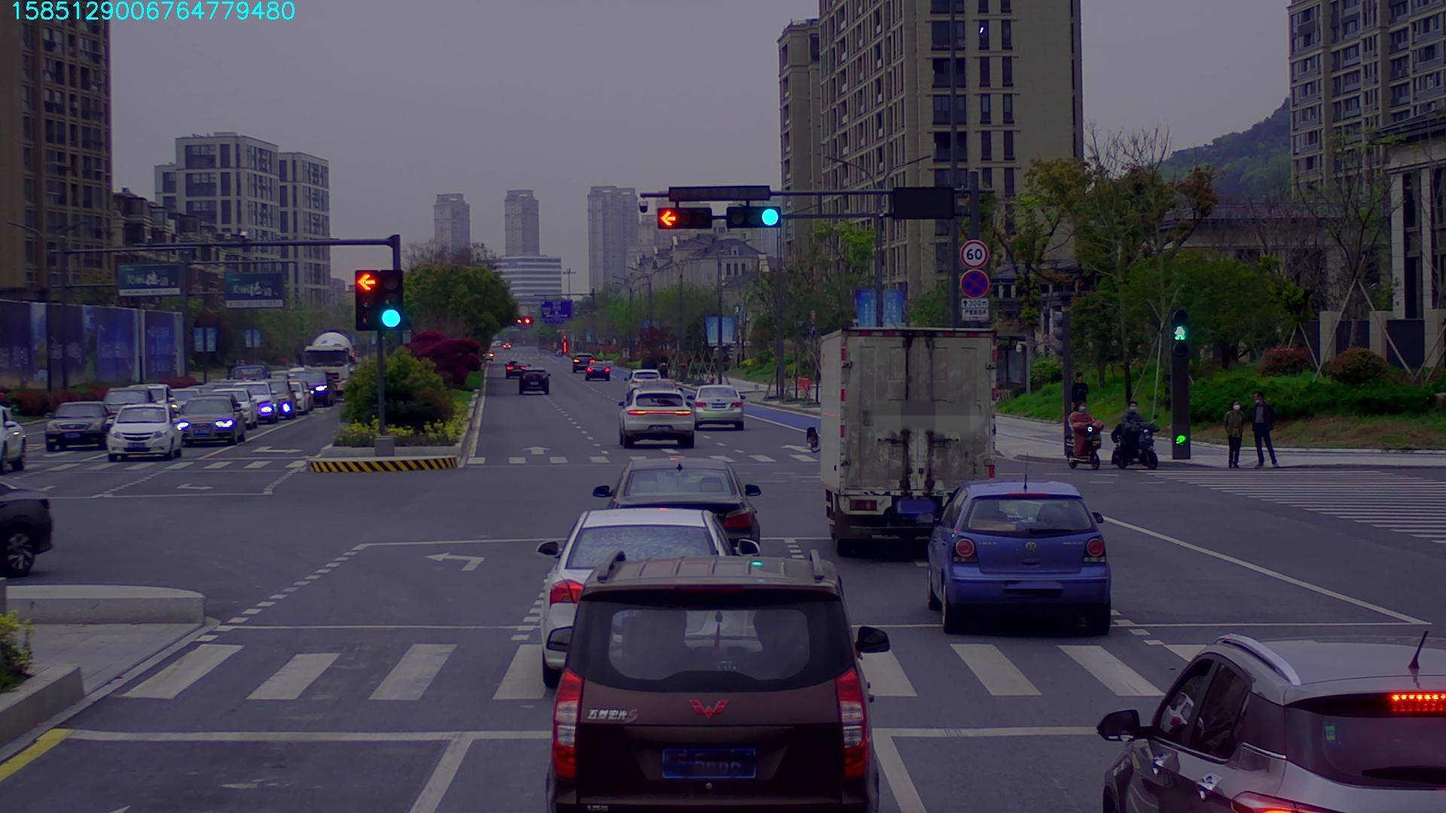green: (731, 209, 784, 226)
red: (655, 209, 713, 226)
